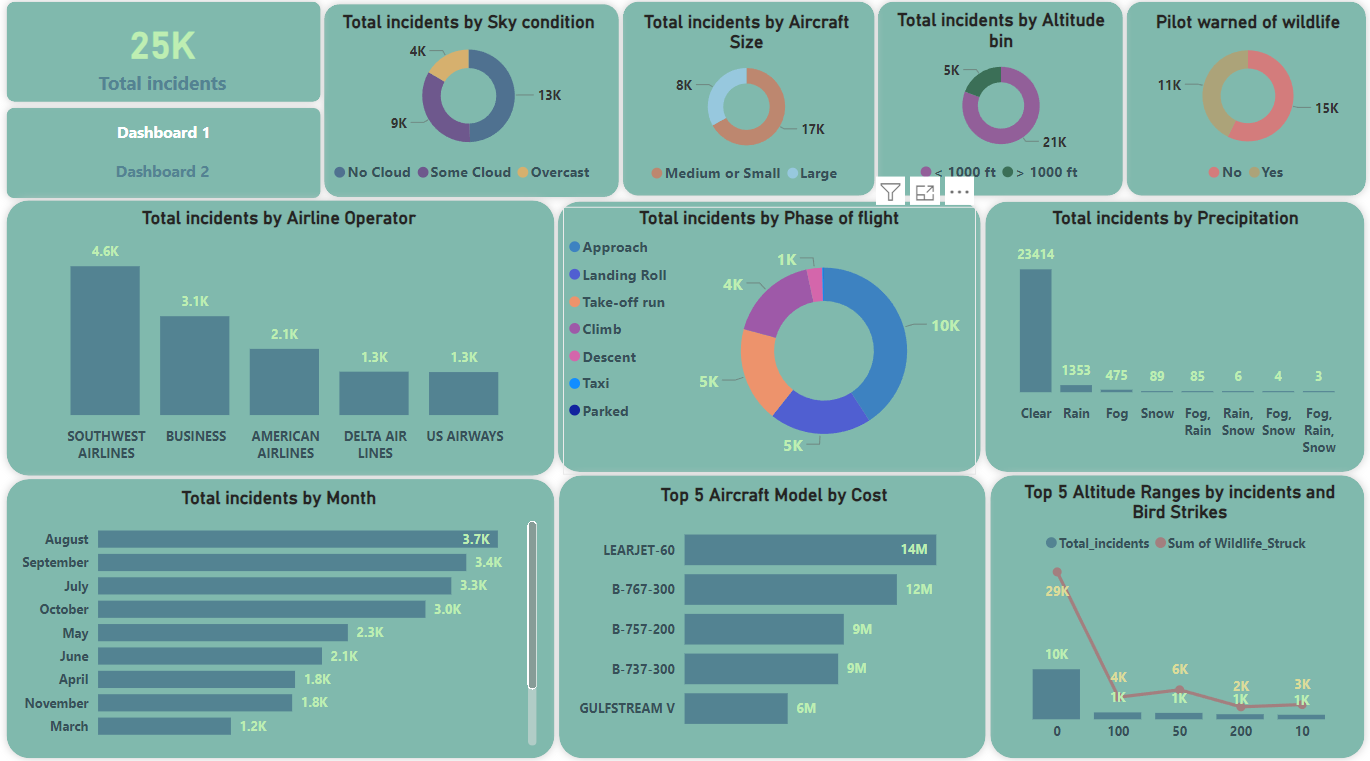

This screenshot's page, from the dashboard's own definition file:
{"tool":"powerbi","page":{"name":"Dashboard 2","canvas":[1280,720],"ordinal":3},"visuals":[{"type":"shape","box":[1041.9,0,238.7,196.6],"z":0},{"type":"donutChart","title":"Pilot warned of wildlife","fields":{"Category":["bird_strike_final.Pilot_warned_of_wildlife"],"Y":["bird_strike_final.Total_incidents"]},"box":[1054.6,16.8,216.6,169.3],"z":1000},{"type":"shape","box":[810.6,0,243.9,196.6],"z":2000},{"type":"shape","box":[573,0,250.2,196.6],"z":3000},{"type":"shape","box":[295.4,2.1,290.2,195.6],"z":4000},{"type":"donutChart","title":"Total incidents by Aircraft Size","fields":{"Category":["bird_strike_final.Is_Aircraft_Large"],"Y":["bird_strike_final.Total_incidents"]},"box":[585.6,16.8,220.8,170.3],"z":5000},{"type":"donutChart","title":"Total incidents by Altitude bin","fields":{"Y":["bird_strike_final.Total_incidents"],"Category":["bird_strike_final.Altitude_bin"]},"box":[824.3,14.7,217.6,170.3],"z":6000},{"type":"donutChart","title":"Total incidents by Sky condition","fields":{"Y":["bird_strike_final.Total_incidents"],"Category":["bird_strike_final.Sky_condition"]},"box":[307,16.8,261.8,169.3],"z":7000},{"type":"shape","box":[0,98.8,308.1,100],"z":8000},{"type":"shape","box":[512.8,186,409.3,267.4],"z":9000},{"type":"donutChart","title":"Total incidents by Phase of flight","fields":{"Y":["bird_strike_final.Total_incidents"],"Category":["bird_strike_final.Phase_of_flight"]},"box":[525.7,198.7,383.8,249.2],"z":10000},{"type":"shape","box":[910.5,186,368.6,267.4],"z":11000},{"type":"columnChart","title":"Total incidents by Precipitation","fields":{"Category":["bird_strike_final.Precipitation"],"Y":["bird_strike_final.Total_incidents"]},"box":[926.3,198.7,337.5,239.7],"z":12000},{"type":"shape","box":[915.1,440.7,364,279.1],"z":13000},{"type":"lineStackedColumnComboChart","title":"Top 5 Altitude Ranges by incidents and Bird Strikes","fields":{"Category":["bird_strike_final.Feet_above_ground"],"Y":["bird_strike_final.Total_incidents"],"Y2":["Sum(bird_strike_final.Wildlife_Struck )"]},"box":[934.7,453.2,329.1,252.3],"z":14000},{"type":"shape","box":[0,184.9,525.6,272.1],"z":15000},{"type":"clusteredColumnChart","fields":{"Category":["bird_strike_final.Airline_Operator"],"Y":["bird_strike_final.Total_incidents"]},"box":[15.8,198.7,490,245],"z":16000},{"type":"shape","box":[0,444.2,525.6,275.6],"z":17000},{"type":"barChart","title":"Total incidents by Month","fields":{"Category":["bird_strike_final.Month"],"Y":["bird_strike_final.Total_incidents"]},"box":[15.8,459.5,490,246],"z":18000},{"type":"shape","box":[514,440.7,412.8,279.1],"z":19000},{"type":"barChart","title":"Top 5 Aircraft Model by Cost","fields":{"Category":["bird_strike_final.Aircraft_Model"],"Y":["bird_strike_final.Total_cost"]},"box":[535.2,457.4,374.3,243.9],"z":20000},{"type":"actionButton","box":[10.5,109.3,287.2,39.5],"z":21000},{"type":"actionButton","box":[10.5,145.3,284.9,39.5],"z":22000},{"type":"shape","box":[0,0,308.1,109.3],"z":23000},{"type":"card","fields":{"Values":["bird_strike_final.Total_incidents"]},"box":[10.5,15.1,284.9,83.7],"z":24000}]}

Visuals, with their boxes in screenshot pixels (x1, y1, x2, y2), scaled from the page's 1280x720 canvas onto the 1370x761 screenshot:
shape: Rect(1115, 0, 1369, 208)
"Pilot warned of wildlife" donutChart: Rect(1129, 18, 1361, 197)
shape: Rect(868, 0, 1129, 208)
shape: Rect(613, 0, 881, 208)
shape: Rect(316, 2, 627, 209)
"Total incidents by Aircraft Size" donutChart: Rect(627, 18, 863, 198)
"Total incidents by Altitude bin" donutChart: Rect(882, 16, 1115, 196)
"Total incidents by Sky condition" donutChart: Rect(329, 18, 609, 197)
shape: Rect(0, 104, 330, 210)
shape: Rect(549, 197, 987, 479)
"Total incidents by Phase of flight" donutChart: Rect(563, 210, 973, 473)
shape: Rect(975, 197, 1369, 479)
"Total incidents by Precipitation" columnChart: Rect(991, 210, 1353, 463)
shape: Rect(979, 466, 1369, 760)
"Top 5 Altitude Ranges by incidents and Bird Strikes" lineStackedColumnComboChart: Rect(1000, 479, 1353, 746)
shape: Rect(0, 195, 563, 483)
clusteredColumnChart - bird_strike_final.Airline_Operator x bird_strike_final.Total_incidents: Rect(17, 210, 541, 469)
shape: Rect(0, 469, 563, 760)
"Total incidents by Month" barChart: Rect(17, 486, 541, 746)
shape: Rect(550, 466, 992, 760)
"Top 5 Aircraft Model by Cost" barChart: Rect(573, 483, 973, 741)
actionButton: Rect(11, 116, 319, 157)
actionButton: Rect(11, 154, 316, 195)
shape: Rect(0, 0, 330, 116)
card - bird_strike_final.Total_incidents: Rect(11, 16, 316, 104)
